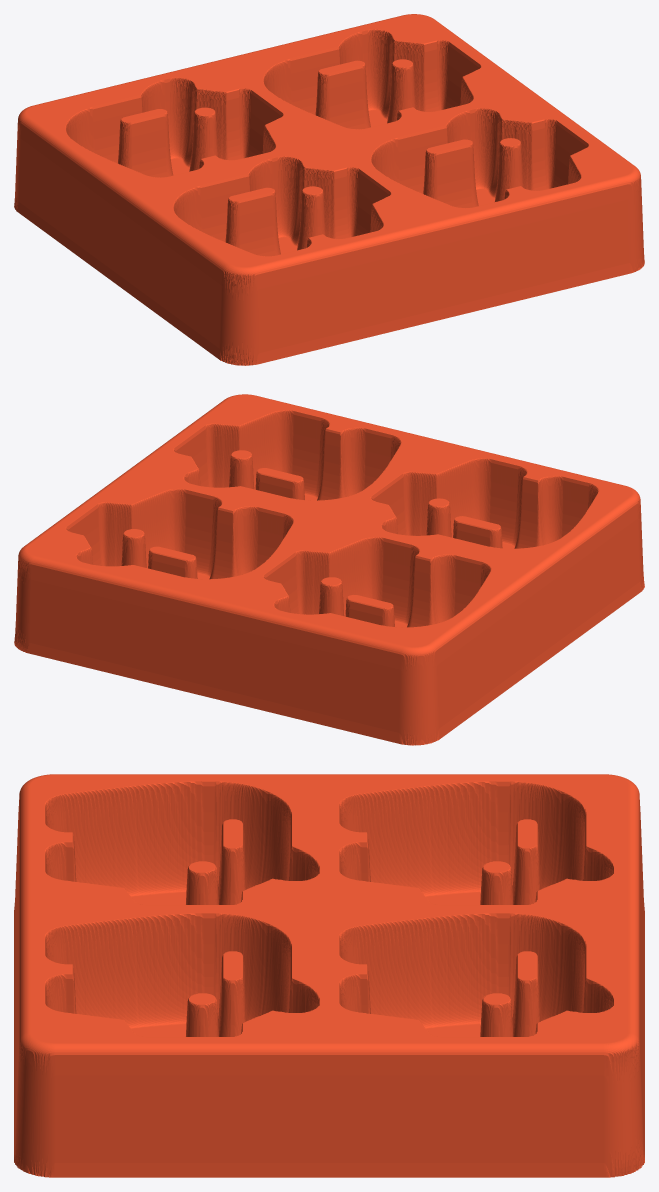
Rendered from mold.glb.
3 views of the same model, one above another, from view 1: azimuth 30°, elevation 25°; view 2: azimuth 150°, elevation 25°; view 3: azimuth 270°, elevation 25° (orthographic). The views are drawn at different scales.
Visible parts, largest first — view 1: geometry_0; view 2: geometry_0; view 3: geometry_0.
Boxes of the visible parts, x1,y1,x2,y2 form: geometry_0: (14,14,644,365); geometry_0: (14,394,644,745); geometry_0: (14,774,644,1177).
Bounding box in the file's own units: 0.1466 × 0.031 × 0.1388.
